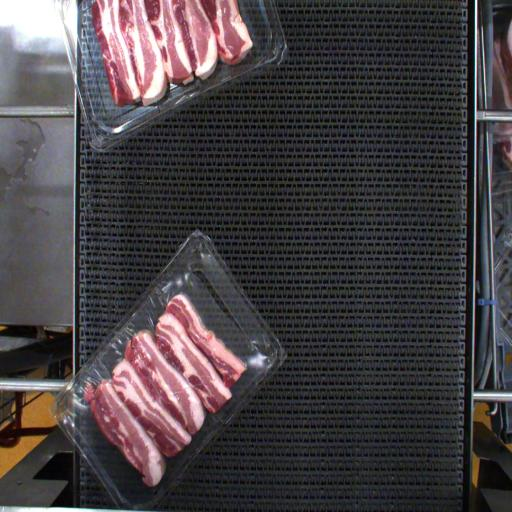unsealed: (77, 270, 269, 432)
